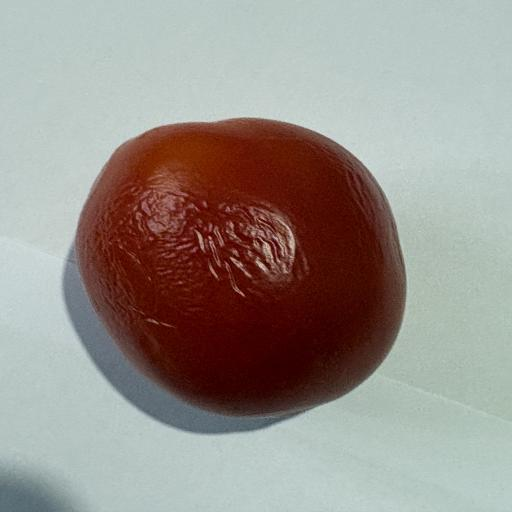spoiled: (76, 119, 406, 416)
